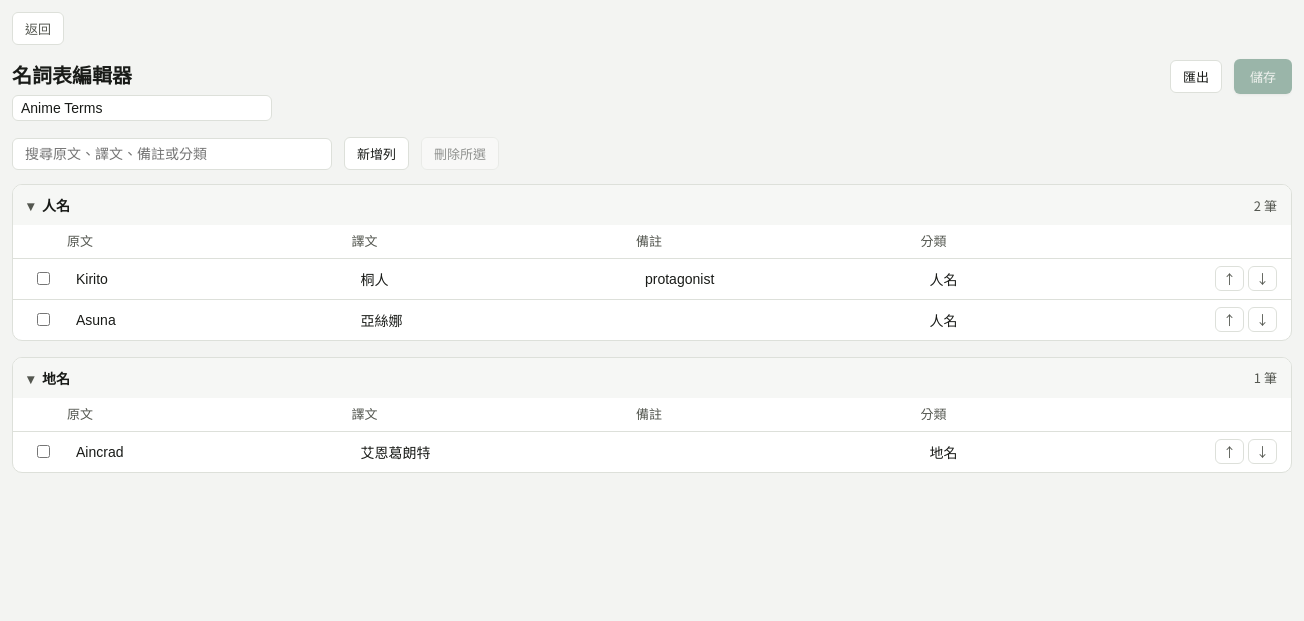
Test: GlossaryEditorView › adding a row appends it to the uncategorized group
The image size is (1304, 621).
Click the button "新增列" at (376, 154), box [344,137,409,170]
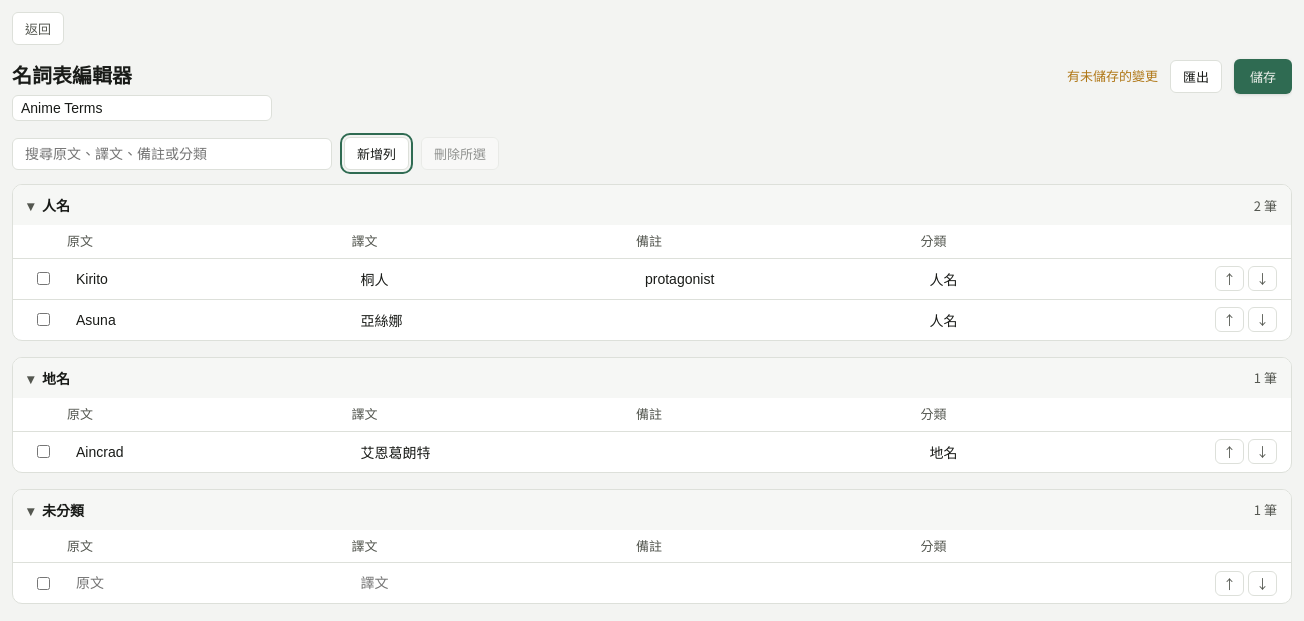
expect the number of fields with placeholder "原文" is 4: met, box [67,265,344,293]; [67,306,344,334]; [67,438,344,466]; [67,569,344,597]
